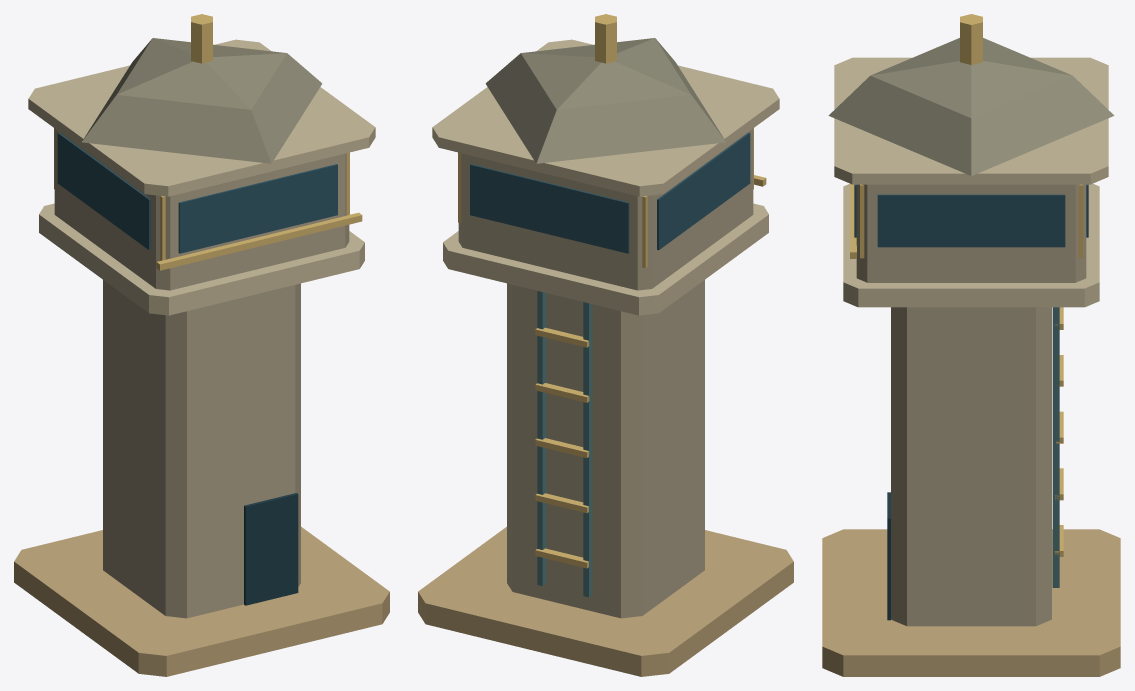
Rendered from coastal-watchtower.glb.
3 views of the same model, side by side, from view 1: azimuth 30°, elevation 25°; view 2: azimuth 150°, elevation 25°; view 3: azimuth 270°, elevation 25° (orthographic). The views are drawn at different scales.
Visible parts, largest first — view 1: intact_structure; view 2: intact_structure; view 3: intact_structure.
Boxes of the visible parts, box(x1,y1,x2,y2) form: intact_structure: box(14, 14, 389, 676); intact_structure: box(418, 14, 793, 676); intact_structure: box(822, 14, 1120, 676).
Bounding box in the file's own units: 5 × 11 × 5.
